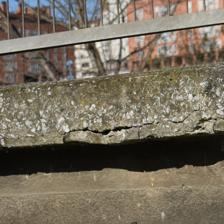Crack: (31, 52, 173, 85)
